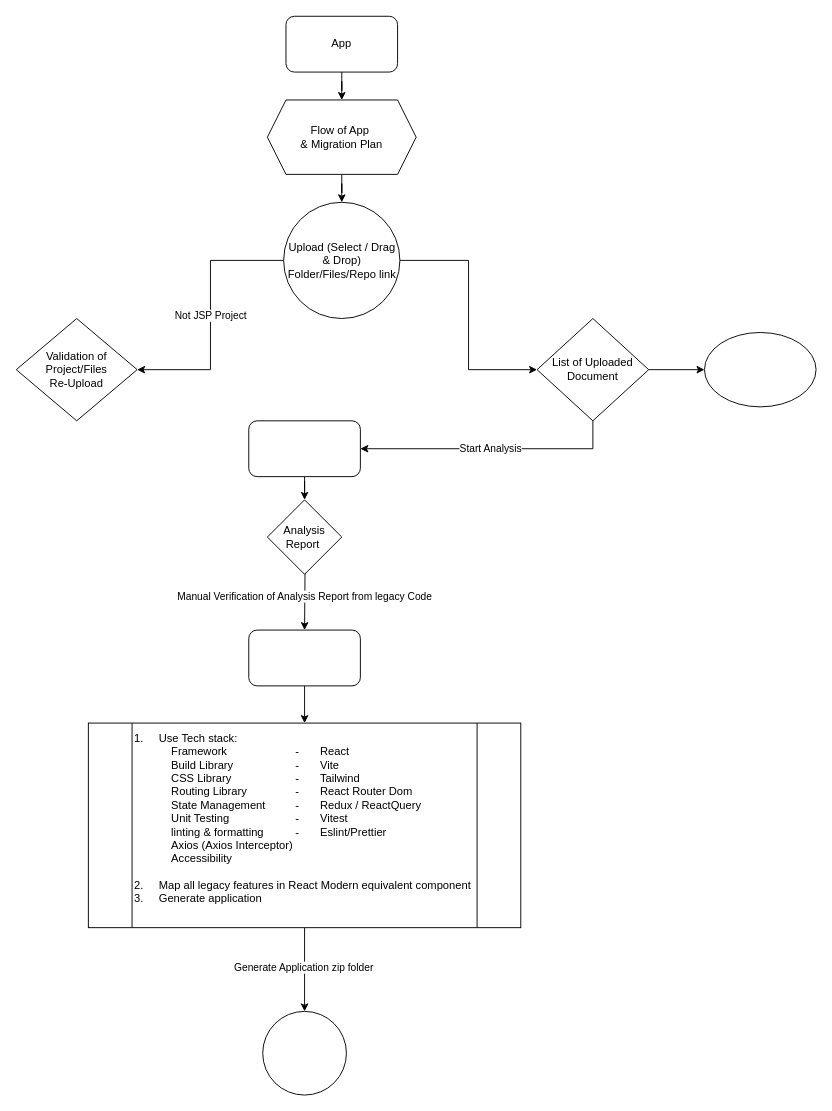
Image size: 832x1111. Some labels were removed from this diagram. Here are the shapes that lost their labels. From the top down, the box of each, then its label:
(704, 332, 816, 407): Delete File/Folder
(248, 420, 360, 477): Analysis of Legacy project(JSP)
(248, 629, 360, 686): Migration from JSP to React
(262, 1010, 346, 1095): Download App
